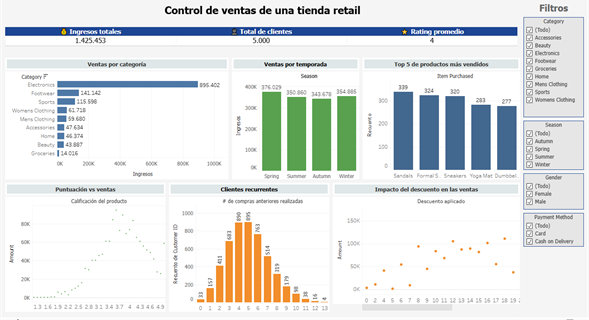

What the dashboard file says about the page in this screenshot:
{"tool":"tableau","page":{"name":"Control de ventas","canvas":[1000,1000],"units":"permille","ordinal":0},"visuals":[{"type":"text","box":[6.9,14.5,858,56.7]},{"type":"text","box":[864.9,14.5,128.1,61.6]},{"type":"worksheet","title":"KPIs","mark":"Automatic","box":[6.9,71.2,858,114.2]},{"type":"filter","title":"Ventas por temporada","param":"[federated.0rfyu210ia93g21crmmqv0tmptjz].[none:Category:nk]","box":[864.9,76.1,128.1,434.8]},{"type":"worksheet","title":"Ventas por categoria","mark":"Automatic","rows":["Category"],"cols":["Amount"],"box":[6.9,185.4,375.2,388.5]},{"type":"worksheet","title":"Ventas por temporada","mark":"Automatic","rows":["Amount"],"cols":["Season"],"box":[382.1,185.4,216.8,388.5]},{"type":"worksheet","title":"Top 5 products","mark":"Automatic","rows":["ItemPurchased"],"cols":["ItemPurchased"],"box":[598.9,185.4,266.1,388.5]},{"type":"filter","title":"Ventas por temporada","param":"[federated.0rfyu210ia93g21crmmqv0tmptjz].[none:Season:nk]","box":[864.9,510.9,128.1,154]},{"type":"worksheet","title":"Rating vs ventas","mark":"Shape","rows":["Amount"],"box":[6.9,573.9,271.1,411.6]},{"type":"worksheet","title":"quienes compran mas","mark":"Automatic","rows":["CustomerID"],"box":[278,573.9,271.2,411.6]},{"type":"worksheet","title":"Impacto del descuento","mark":"Shape","rows":["Amount"],"box":[549.3,573.9,315.7,411.6]},{"type":"filter","title":"Ventas por temporada","param":"[federated.0rfyu210ia93g21crmmqv0tmptjz].[none:Gender:nk]","box":[864.9,664.9,128.1,166.7]},{"type":"filter","title":"Ventas por temporada","param":"[federated.0rfyu210ia93g21crmmqv0tmptjz].[none:PaymentMethod:nk]","box":[864.9,831.5,128.1,154]}]}

Visuals, with their boxes on the dashboard's canvas, which has no fixed pixel size, in thousandths of its width and height (x1, y1, x2, y2). These are canvas units, not pixel positions in the 589x320 screenshot, which may show the page scaled, cropped or inside an application window:
text: (7,14,865,71)
text: (865,14,993,76)
"KPIs" worksheet: (7,71,865,185)
"Ventas por temporada" filter: (865,76,993,511)
"Ventas por categoria" worksheet: (7,185,382,574)
"Ventas por temporada" worksheet: (382,185,599,574)
"Top 5 products" worksheet: (599,185,865,574)
"Ventas por temporada" filter: (865,511,993,665)
"Rating vs ventas" worksheet (Shape marks): (7,574,278,986)
"quienes compran mas" worksheet: (278,574,549,986)
"Impacto del descuento" worksheet (Shape marks): (549,574,865,986)
"Ventas por temporada" filter: (865,665,993,832)
"Ventas por temporada" filter: (865,832,993,986)
